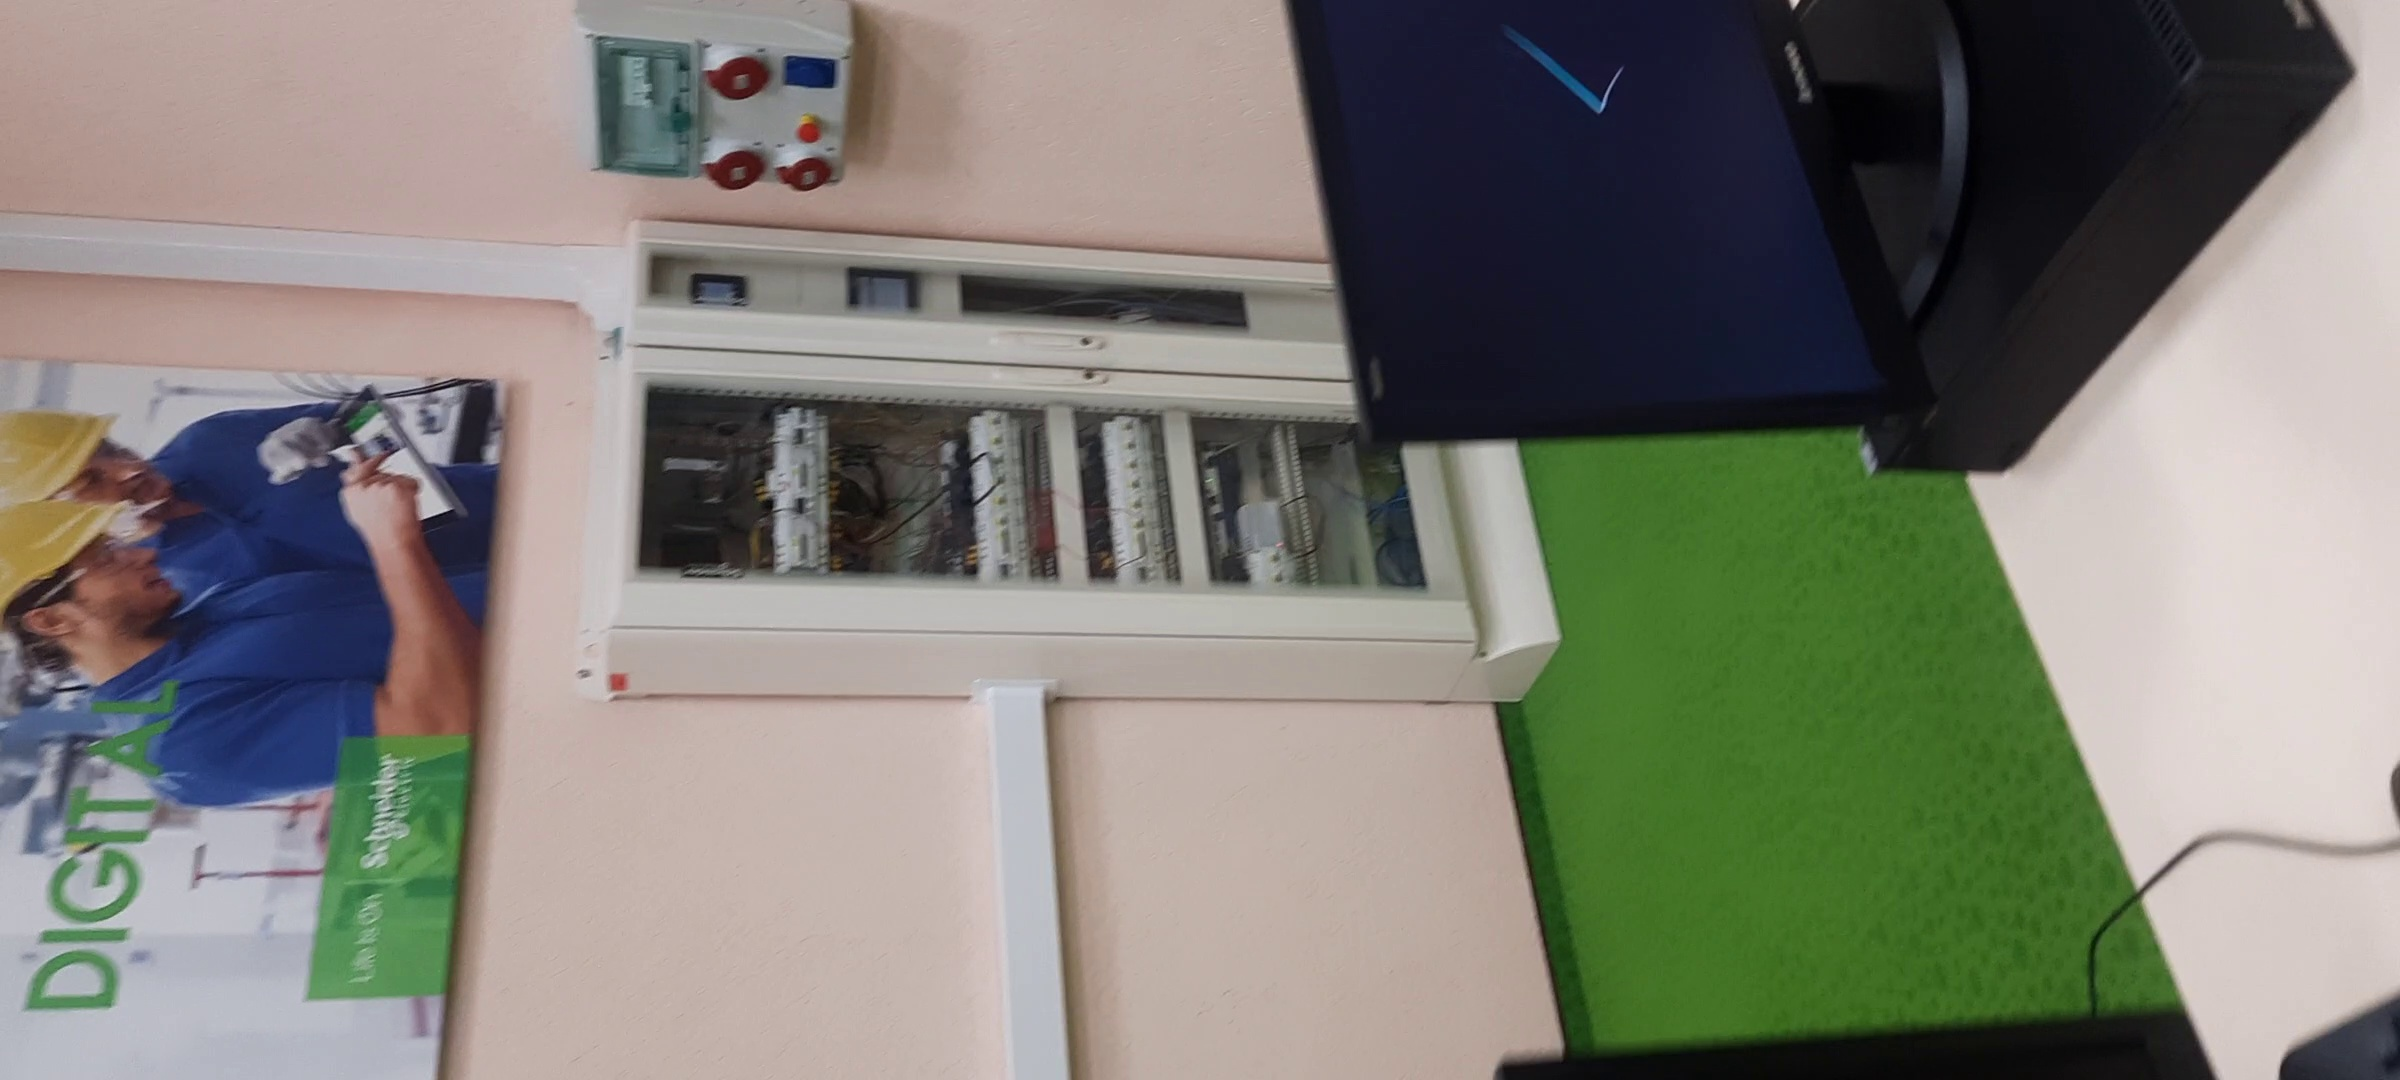stand1: (598, 233, 1544, 711)
